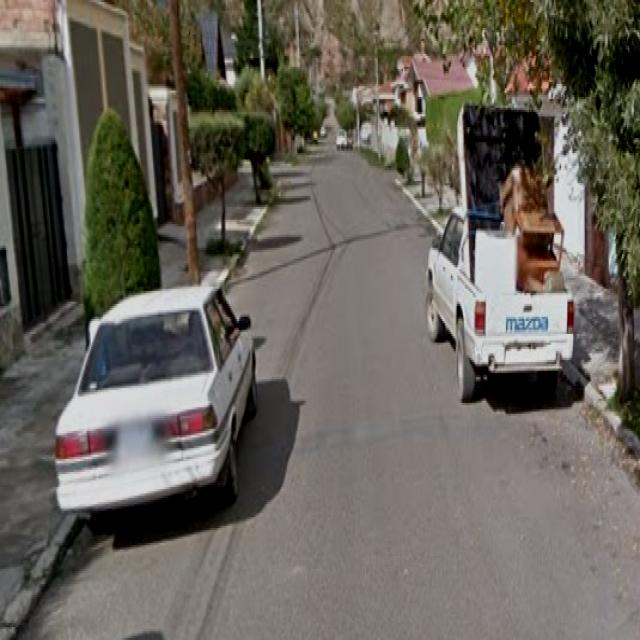car: (65, 289, 255, 535), (434, 195, 584, 419)
